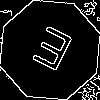E: (25, 25, 76, 81)
